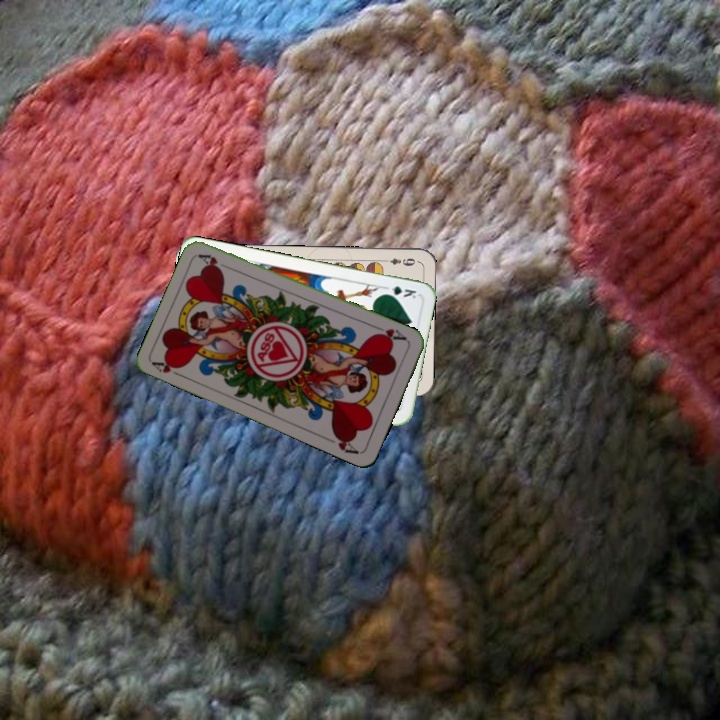E9: (379, 254, 420, 268)
GK: (379, 282, 419, 302)
HA: (149, 356, 188, 381), (370, 322, 409, 344)
